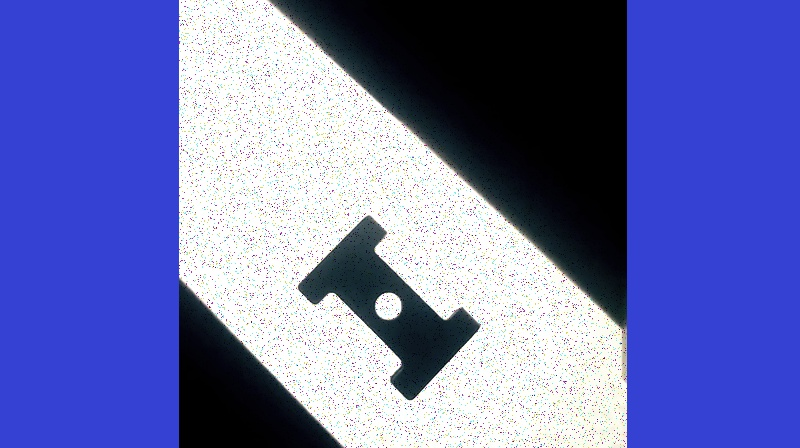O002: (294, 212, 483, 403)
